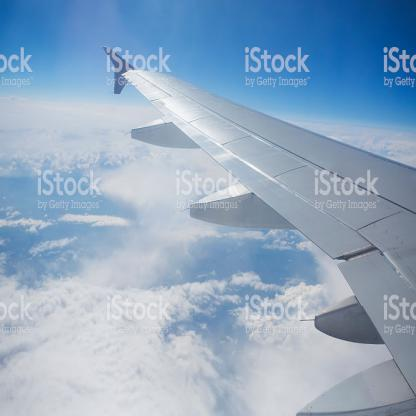CIV_Plane: (101, 32, 414, 416)
